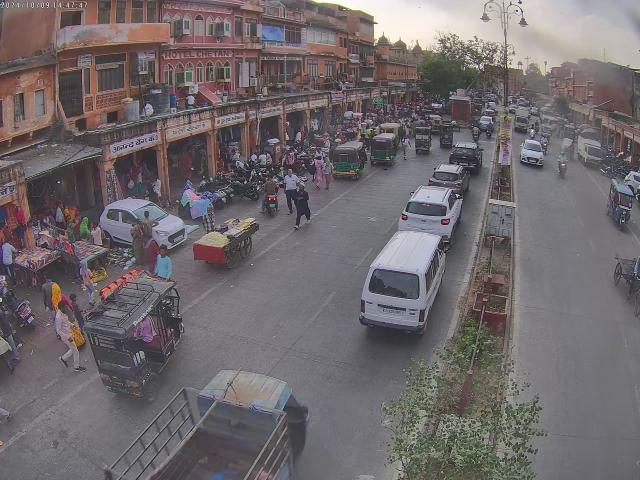auto: (80, 276, 184, 396), (604, 177, 636, 230), (328, 140, 366, 180), (369, 132, 400, 167), (412, 124, 432, 154), (437, 122, 458, 148)
car: (354, 228, 448, 337), (98, 196, 186, 252), (404, 186, 459, 228), (448, 141, 483, 173), (518, 139, 546, 167)
license_plate: (380, 306, 404, 316), (172, 234, 184, 243), (528, 158, 536, 163)
lorry: (116, 368, 306, 480), (612, 253, 640, 317), (577, 133, 602, 170), (514, 112, 530, 132)
motorbike: (204, 184, 234, 205), (602, 158, 632, 178), (235, 178, 262, 200)
motorbike-rider: (0, 273, 12, 322), (556, 156, 568, 178)
person: (54, 300, 88, 372), (294, 183, 314, 228), (0, 236, 17, 282), (152, 248, 174, 282), (285, 168, 300, 216), (88, 221, 102, 245)
scooty-rider: (13, 297, 34, 327), (262, 192, 280, 216)
vendor: (192, 218, 258, 268)
